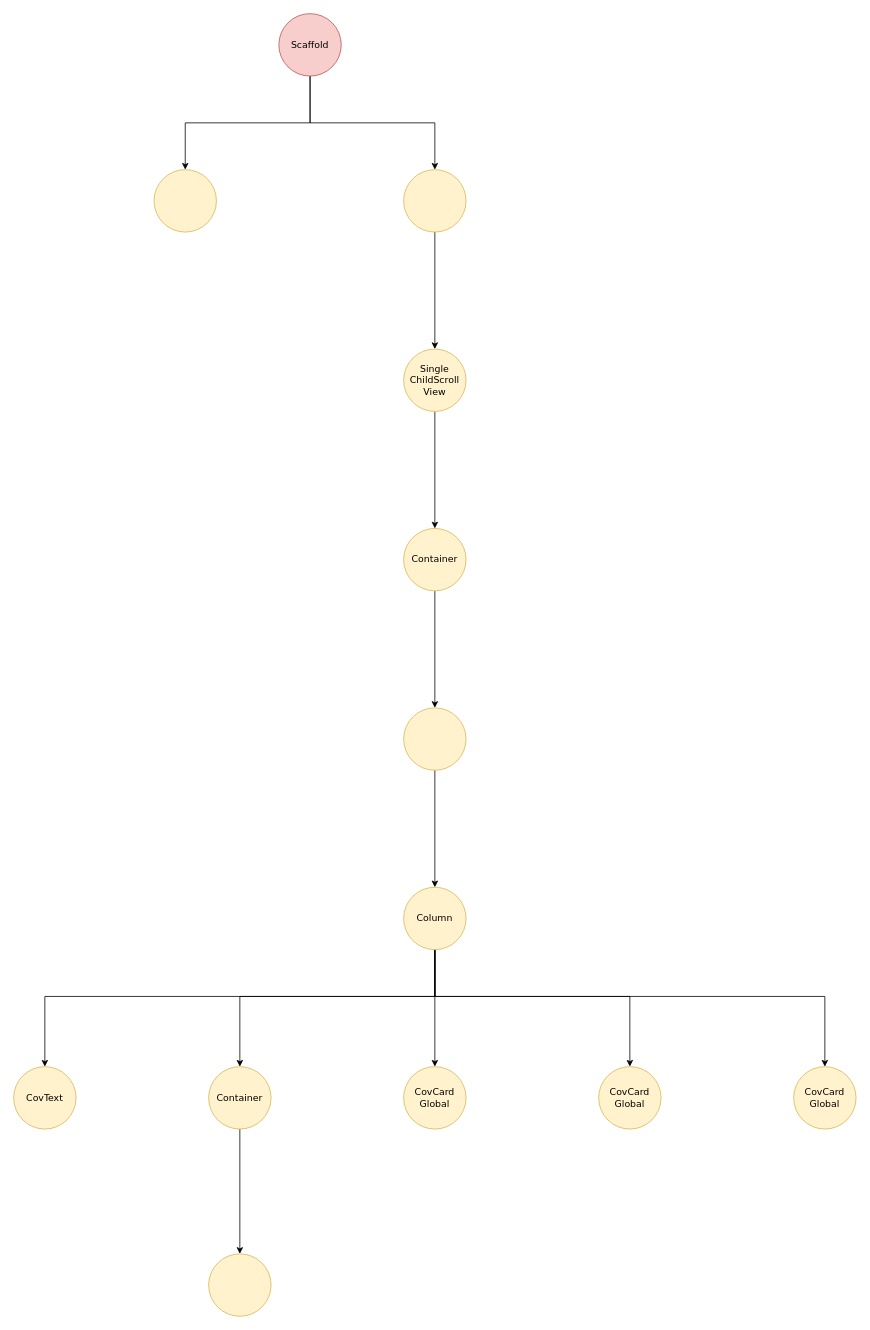
This 870x1330 diagram has some shape labels left out. The box of each missing label's shape, as (x1, y1, x2, y2) in pixels:
Center: (403, 707, 466, 770)
CovAppBar: (153, 169, 216, 232)
Image. Network: (208, 1253, 271, 1316)
SafeArea: (403, 169, 466, 232)
